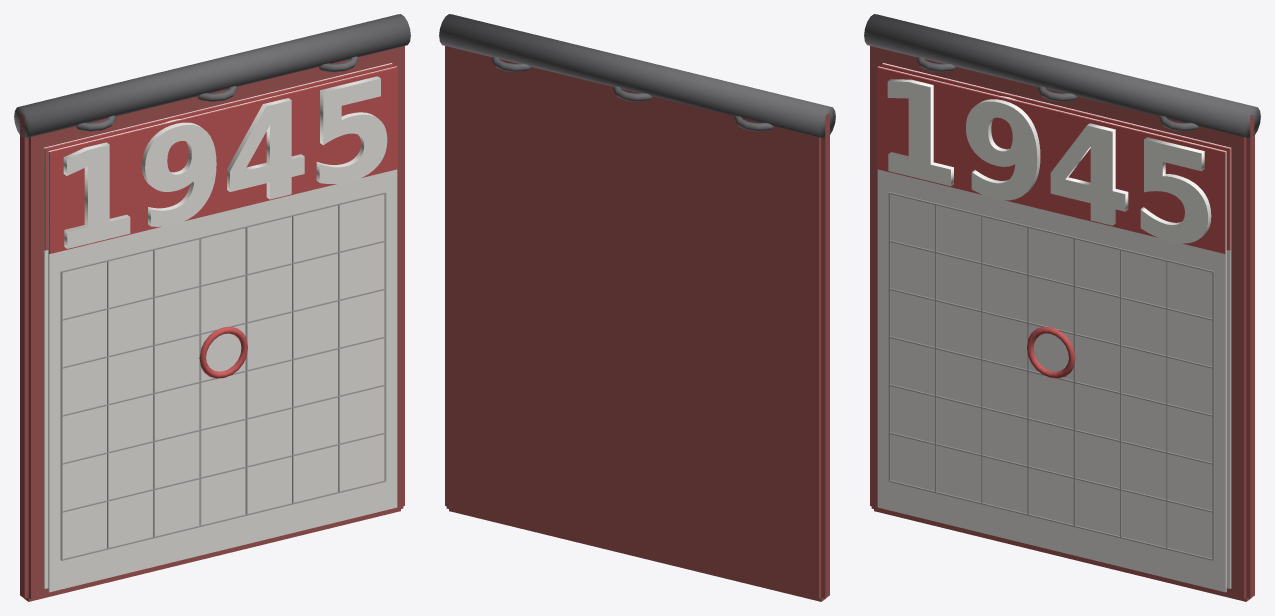
Rendered from calendar_1945.glb.
The picture shows the model from 3 angles, left to right: view 1: azimuth 30°, elevation 25°; view 2: azimuth 150°, elevation 25°; view 3: azimuth 330°, elevation 25°; orthographic projection.
Parts seen in each view (by area): view 1: Page1945, Backing, Band1945, Year1945, BindRoll, Page1947, Band1947, Circle1945, GridV19450, GridV19457, GridV19453, GridH19456 (+11 smaller); view 2: Backing, BindRoll; view 3: Page1945, Backing, Band1945, Year1945, BindRoll, Page1947, Band1947, Circle1945, GridV19457, GridV19450, GridV19454, GridH19456 (+11 smaller).
Part boxes in pixels (left/top/right/bottom): Page1945: left=48, top=66, right=397, bottom=592; Backing: left=20, top=46, right=404, bottom=601; Band1945: left=49, top=67, right=397, bottom=253; Year1945: left=63, top=76, right=387, bottom=248; BindRoll: left=14, top=14, right=410, bottom=138; Page1947: left=43, top=63, right=391, bottom=588; Band1947: left=44, top=63, right=393, bottom=250; Circle1945: left=199, top=327, right=247, bottom=378; GridV19450: left=60, top=272, right=62, bottom=560; GridV19457: left=384, top=193, right=386, bottom=481; GridV19453: left=199, top=238, right=201, bottom=526; GridH19456: left=61, top=192, right=385, bottom=272; Backing: left=445, top=46, right=829, bottom=601; BindRoll: left=439, top=14, right=835, bottom=138; Page1945: left=877, top=66, right=1226, bottom=592; Backing: left=870, top=46, right=1254, bottom=601; Band1945: left=877, top=67, right=1225, bottom=253; Year1945: left=887, top=79, right=1211, bottom=243; BindRoll: left=864, top=14, right=1260, bottom=138; Page1947: left=883, top=63, right=1231, bottom=588; Band1947: left=881, top=63, right=1230, bottom=250; Circle1945: left=1027, top=327, right=1075, bottom=378; GridV19457: left=1212, top=272, right=1214, bottom=560; GridV19450: left=888, top=193, right=890, bottom=481; GridV19454: left=1073, top=238, right=1075, bottom=526; GridH19456: left=889, top=192, right=1213, bottom=272.
Bounding box in the file's own units: 0.94 × 1.16 × 0.1165.
